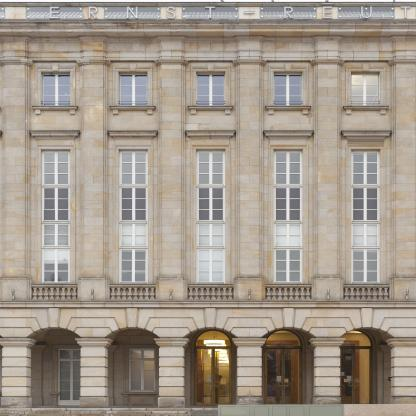Building Outline: (0, 0, 416, 416)
Cornice: (28, 130, 80, 139), (107, 130, 158, 139), (185, 130, 236, 139), (263, 130, 314, 139), (341, 130, 392, 139), (362, 62, 370, 72), (51, 62, 59, 71), (129, 62, 137, 71), (284, 62, 292, 71), (207, 62, 214, 71)
Deco: (361, 6, 373, 19), (400, 6, 411, 19), (283, 6, 294, 19), (322, 6, 333, 19), (127, 6, 138, 18), (166, 6, 176, 19), (205, 6, 215, 19), (50, 6, 60, 18), (88, 6, 98, 18), (243, 11, 255, 14)
Door: (26, 327, 82, 408), (104, 327, 160, 408), (261, 327, 317, 405), (339, 327, 395, 405), (183, 327, 238, 406), (335, 348, 373, 406), (194, 348, 232, 406), (265, 348, 302, 406), (59, 359, 84, 405)
Floor: (1, 136, 416, 301)
Floor Slab: (1, 129, 416, 136), (1, 301, 416, 308)
Ground Floor: (1, 308, 416, 415)
Molding: (0, 300, 416, 308), (0, 22, 416, 29)
Pillar: (154, 35, 189, 301), (232, 35, 267, 301), (310, 35, 345, 301), (76, 36, 111, 301), (0, 36, 34, 301), (387, 35, 416, 301)
Sill: (31, 106, 79, 115), (109, 106, 156, 115), (187, 106, 234, 115), (265, 106, 311, 115), (343, 106, 389, 115)
Top Floor: (1, 2, 416, 129)
Window: (351, 149, 380, 284), (41, 149, 70, 284), (119, 149, 148, 284), (196, 149, 225, 284), (274, 149, 302, 284), (129, 349, 155, 392), (41, 72, 70, 106), (352, 72, 380, 106), (119, 72, 147, 106), (197, 72, 225, 106), (274, 72, 302, 106), (260, 7, 317, 19), (338, 7, 394, 19), (104, 7, 160, 19), (182, 7, 238, 19), (26, 7, 82, 19), (335, 329, 373, 346), (194, 329, 232, 346), (265, 329, 302, 346), (59, 349, 84, 359), (0, 7, 5, 19)
